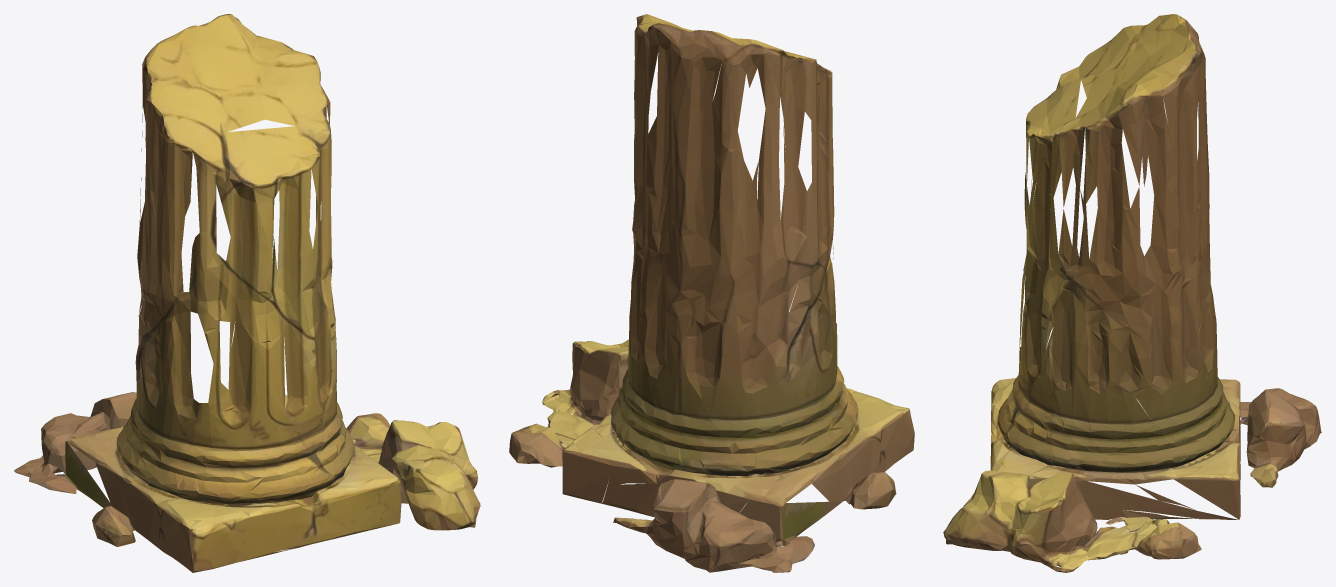
File: pillar_b.glb
3 renders of one model, left to right at view 1: azimuth 30°, elevation 25°; view 2: azimuth 150°, elevation 25°; view 3: azimuth 270°, elevation 25°, orthographic. The views are drawn at different scales.
Visible parts, largest first — view 1: geometry_0; view 2: geometry_0; view 3: geometry_0.
Part boxes in pixels (x1,y1,x2,y2): geometry_0: (14, 14, 480, 572); geometry_0: (509, 14, 914, 572); geometry_0: (943, 14, 1321, 572).
Size of the model in its own units: 1.64 by 1.99 by 1.55.
Materials: 1 (1 with a texture image).
